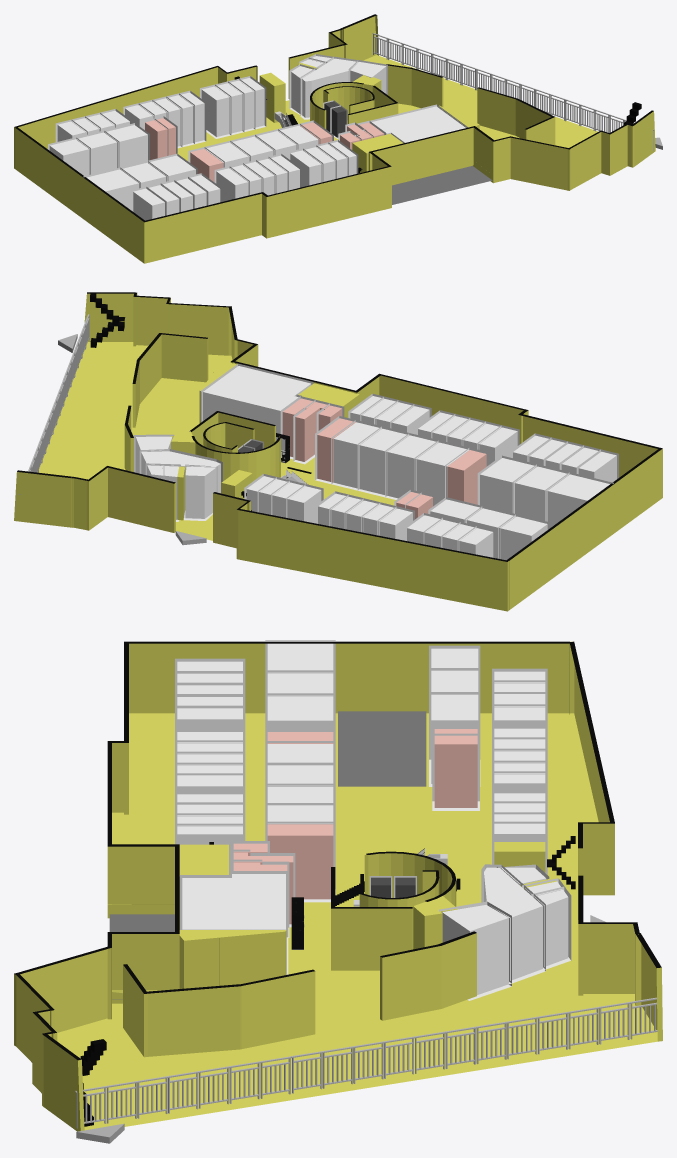
3 renders of one model, top to bottom at view 1: azimuth 30°, elevation 25°; view 2: azimuth 150°, elevation 25°; view 3: azimuth 270°, elevation 25°, orthographic. The views are drawn at different scales.
Parts seen in each view (by area): view 1: object, room_9_5_34, object_9_2.002, room_9_5_31, object_9_2.001, object_9_2, room_9_5_29, room_9_5_38, room_9_5_37, room_9_5_10, room_9_5_39, room_9_5_36 (+34 smaller); view 2: object, room_9_5_34, room_9_5_41, room_9_5_44, room_9_5_43, room_9_5_45, room_9_5_40, room_9_5_42, room_9_5_39, トイレ_9_5_7, room_9_5_33, room_9_5_36 (+27 smaller); view 3: object, object_9_5_1, room_9_5_34, object_9_2, object_9_2.001, object_9_2.002, room_9_5_29, トイレ_9_5_8, room_9_5_30, トイレ_9_5_1, room_9_5_41, room_9_5_39 (+27 smaller).
Boxes of the visible parts, x1,y1,x2,y2 form: object: [14, 14, 655, 263]; room_9_5_34: [372, 106, 465, 142]; object_9_2.002: [372, 33, 476, 89]; room_9_5_31: [392, 166, 492, 204]; object_9_2.001: [446, 60, 550, 113]; object_9_2: [550, 94, 653, 151]; room_9_5_29: [302, 58, 358, 117]; room_9_5_38: [104, 125, 147, 167]; room_9_5_37: [76, 132, 117, 174]; room_9_5_10: [201, 86, 229, 136]; room_9_5_39: [86, 169, 138, 209]; room_9_5_36: [49, 139, 89, 175]; object: [14, 292, 662, 611]; room_9_5_34: [203, 366, 311, 433]; room_9_5_41: [480, 458, 536, 513]; room_9_5_44: [360, 428, 409, 495]; room_9_5_43: [387, 435, 438, 498]; room_9_5_45: [333, 422, 381, 488]; room_9_5_40: [515, 466, 569, 521]; room_9_5_42: [416, 442, 469, 504]; room_9_5_39: [547, 474, 609, 528]; トイレ_9_5_7: [447, 450, 486, 504]; room_9_5_33: [185, 466, 216, 518]; room_9_5_36: [500, 516, 547, 560]; object: [14, 641, 662, 1131]; object_9_5_1: [338, 711, 426, 786]; room_9_5_34: [182, 874, 285, 929]; object_9_2: [75, 1056, 291, 1128]; object_9_2.001: [291, 1022, 507, 1093]; object_9_2.002: [445, 997, 657, 1064]; room_9_5_29: [484, 867, 542, 980]; トイレ_9_5_8: [267, 824, 333, 899]; room_9_5_30: [442, 905, 508, 994]; トイレ_9_5_1: [434, 736, 477, 807]; room_9_5_41: [267, 696, 333, 728]; room_9_5_39: [267, 643, 333, 673].
Size of the model in its own units: 2.49 by 0.2418 by 1.58.
Materials: 134 (7 with a texture image).
